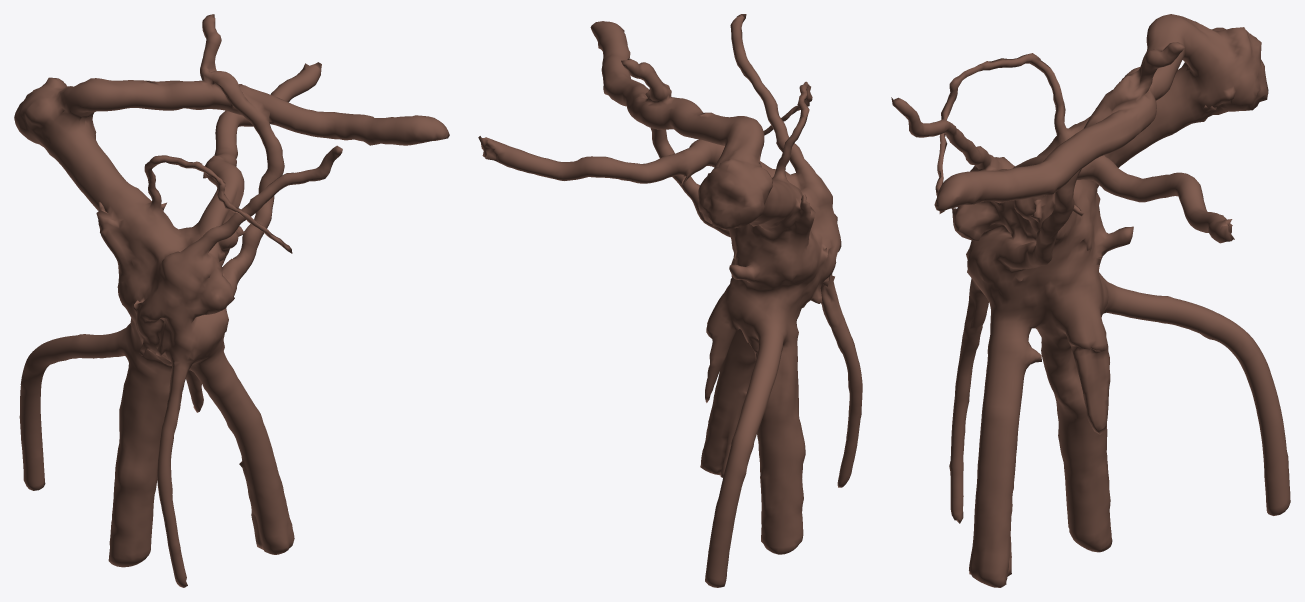
Rendered from akar tunjang.glb.
The picture shows the model from 3 angles, left to right: view 1: azimuth 30°, elevation 25°; view 2: azimuth 150°, elevation 25°; view 3: azimuth 270°, elevation 25°; orthographic projection. The views are drawn at different scales.
Parts seen in each view (by area): view 1: 0606_04_radalina_remash; view 2: 0606_04_radalina_remash; view 3: 0606_04_radalina_remash.
Boxes of the visible parts, x1,y1,x2,y2 form: 0606_04_radalina_remash: (14, 14, 449, 587); 0606_04_radalina_remash: (478, 14, 862, 587); 0606_04_radalina_remash: (891, 14, 1290, 587).
Bounding box in the file's own units: 0.1822 × 0.287 × 0.1813.
